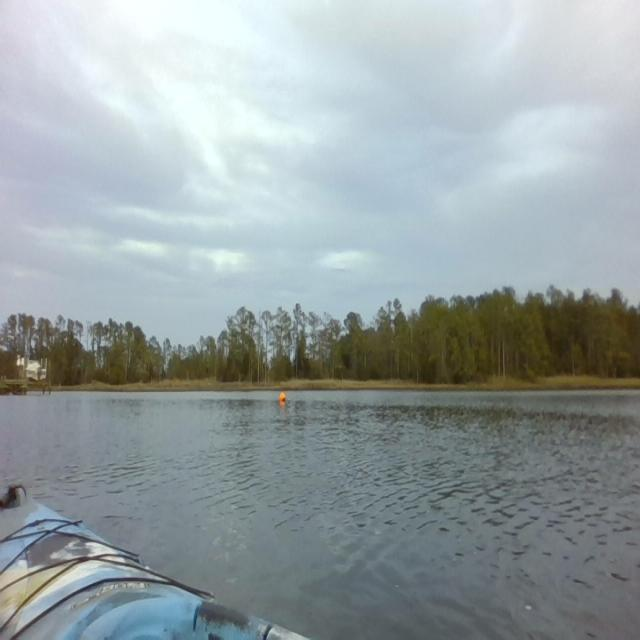Buoy: (278, 388, 288, 406)
